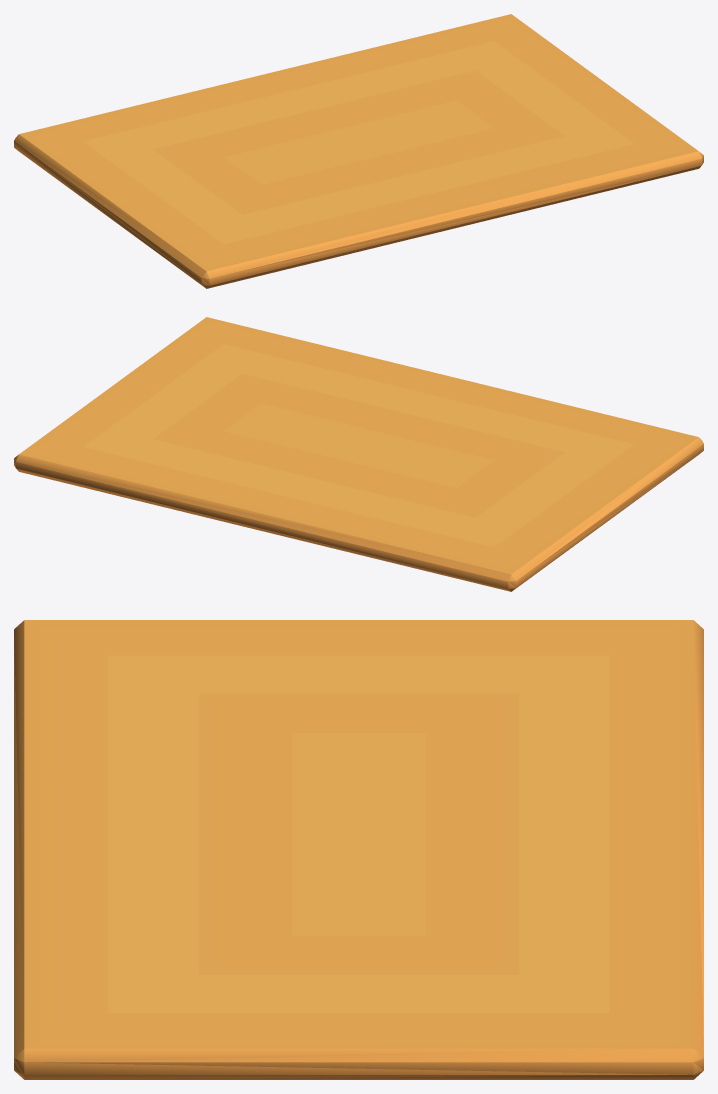
The model's file is home_rug_rectangle_stripes_a.fbx.
3 views of the same model, one above another, from view 1: azimuth 30°, elevation 25°; view 2: azimuth 150°, elevation 25°; view 3: azimuth 270°, elevation 25° (orthographic). The views are drawn at different scales.
Visible parts, largest first — view 1: home_rug_rectangle_stripes_a; view 2: home_rug_rectangle_stripes_a; view 3: home_rug_rectangle_stripes_a.
Boxes of the visible parts, bbox=[...] form: home_rug_rectangle_stripes_a: bbox=[14, 14, 703, 288]; home_rug_rectangle_stripes_a: bbox=[14, 317, 703, 591]; home_rug_rectangle_stripes_a: bbox=[14, 620, 703, 1079].
Size of the model in its own units: 2.4 by 0.08 by 1.6.
1 material, 1 textured.
